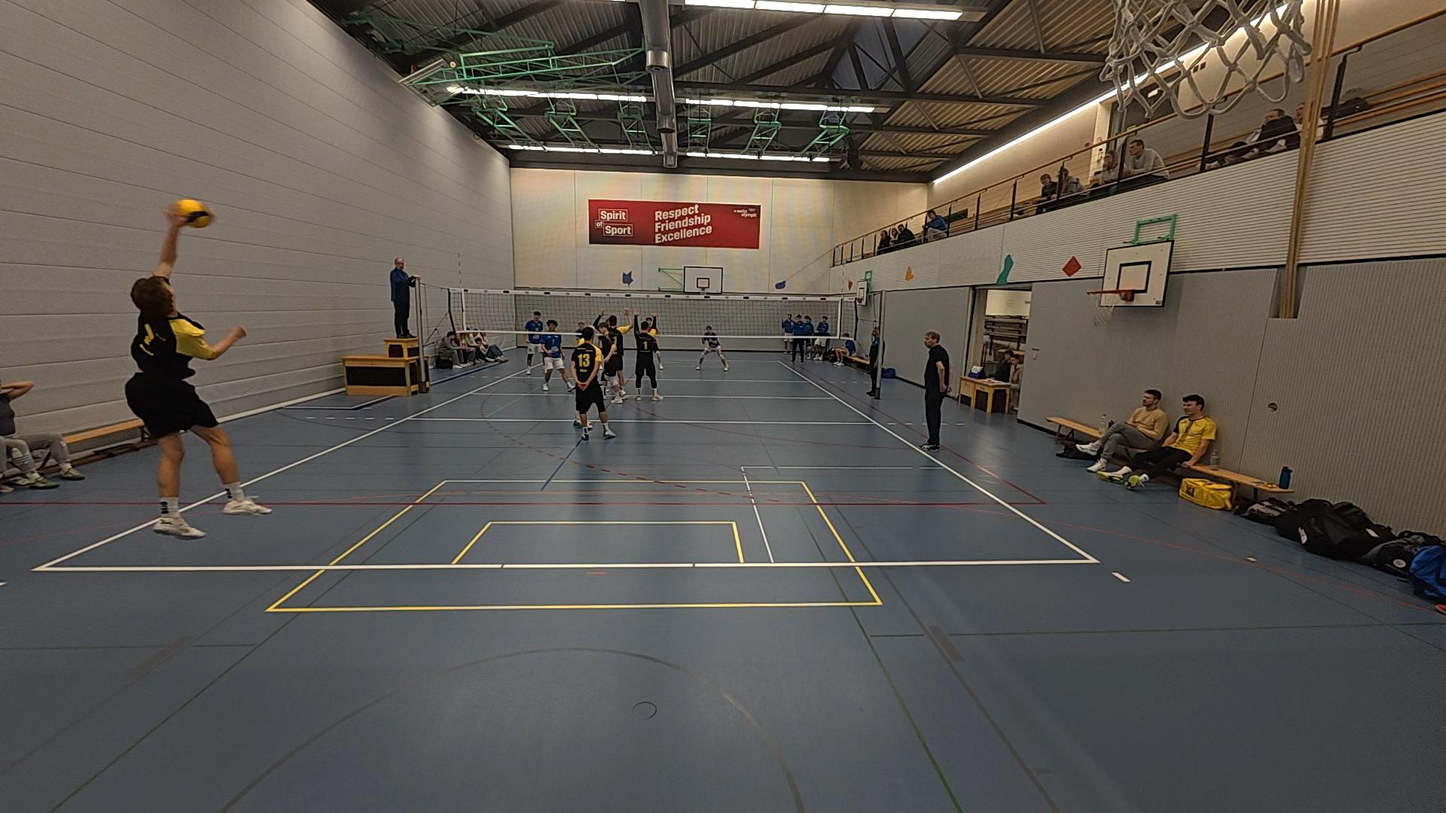battuta: (120, 207, 274, 539)
